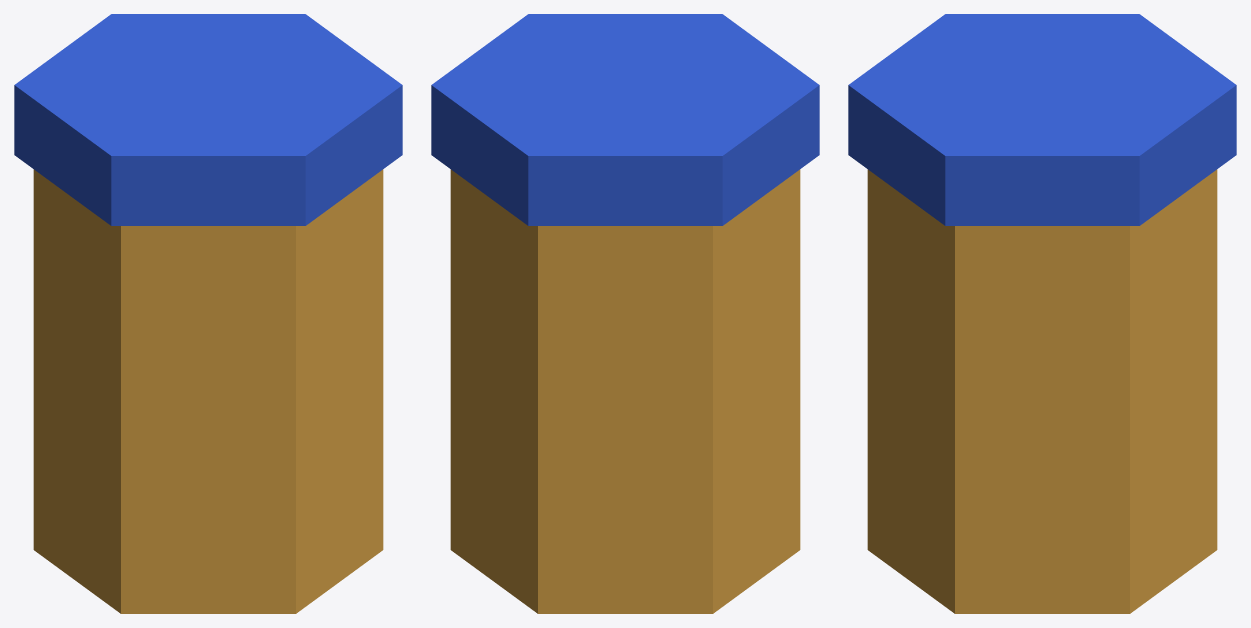
Rendered from Pills.fbx.
3 renders of one model, left to right at view 1: azimuth 30°, elevation 25°; view 2: azimuth 150°, elevation 25°; view 3: azimuth 270°, elevation 25°, orthographic.
Parts seen in each view (by area): view 1: Cylinder, Cylinder.001; view 2: Cylinder, Cylinder.001; view 3: Cylinder, Cylinder.001.
Boxes of the visible parts, left/top/right/bottom form: Cylinder: left=33, top=169, right=383, bottom=613; Cylinder.001: left=14, top=14, right=402, bottom=225; Cylinder: left=450, top=169, right=800, bottom=613; Cylinder.001: left=431, top=14, right=819, bottom=225; Cylinder: left=867, top=169, right=1217, bottom=613; Cylinder.001: left=848, top=14, right=1236, bottom=225.
Size of the model in its own units: 192 by 293 by 222.
